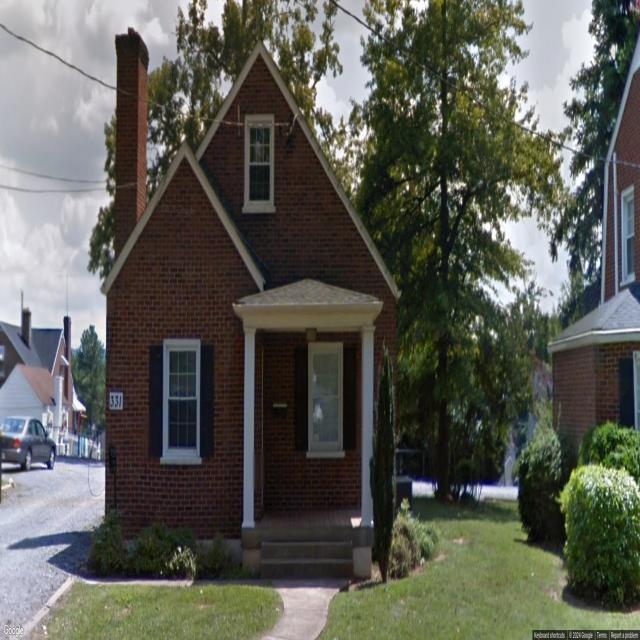House: (100, 28, 402, 576), (547, 32, 640, 468), (0, 309, 86, 443)
